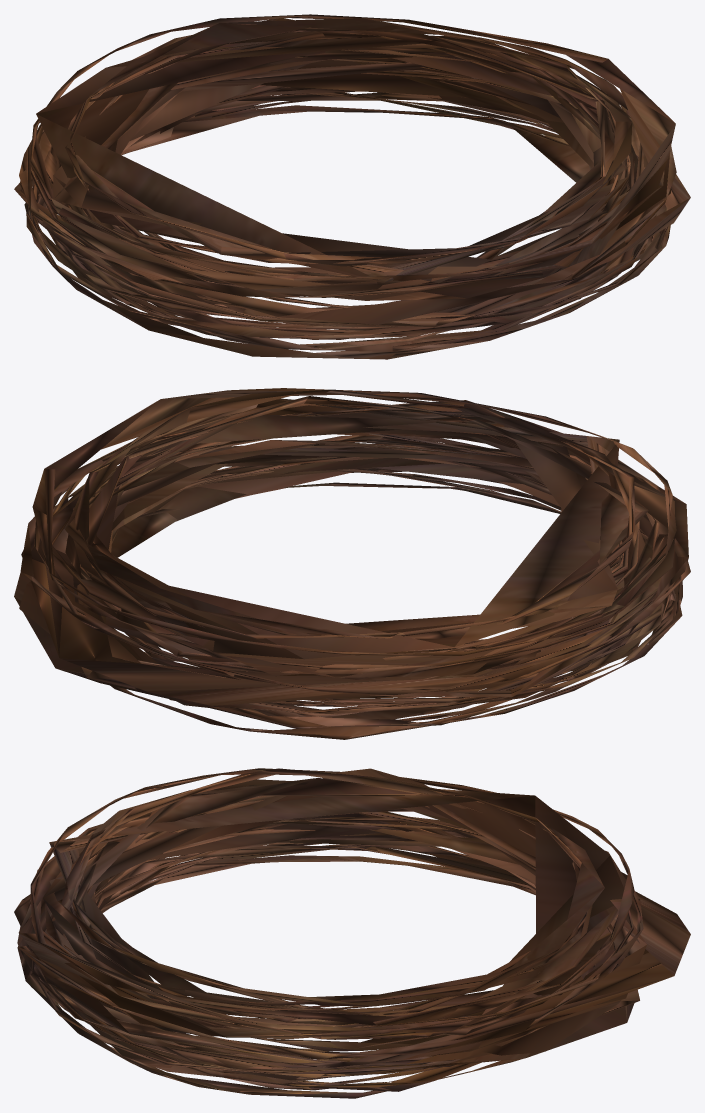
Rendered from EST-ARA-001_lod1.glb.
3 renders of one model, top to bottom at view 1: azimuth 30°, elevation 25°; view 2: azimuth 150°, elevation 25°; view 3: azimuth 270°, elevation 25°, orthographic. The views are drawn at different scales.
Visible parts, largest first — view 1: Arame recozido nº 18 (1 kg); view 2: Arame recozido nº 18 (1 kg); view 3: Arame recozido nº 18 (1 kg).
Part boxes in pixels (<box>): Arame recozido nº 18 (1 kg): <box>14,14,690,359</box>; Arame recozido nº 18 (1 kg): <box>14,388,690,739</box>; Arame recozido nº 18 (1 kg): <box>14,768,690,1098</box>.
Bounding box in the file's own units: 0.2438 × 0.0387 × 0.2628.
Materials: 1 (1 with a texture image).
